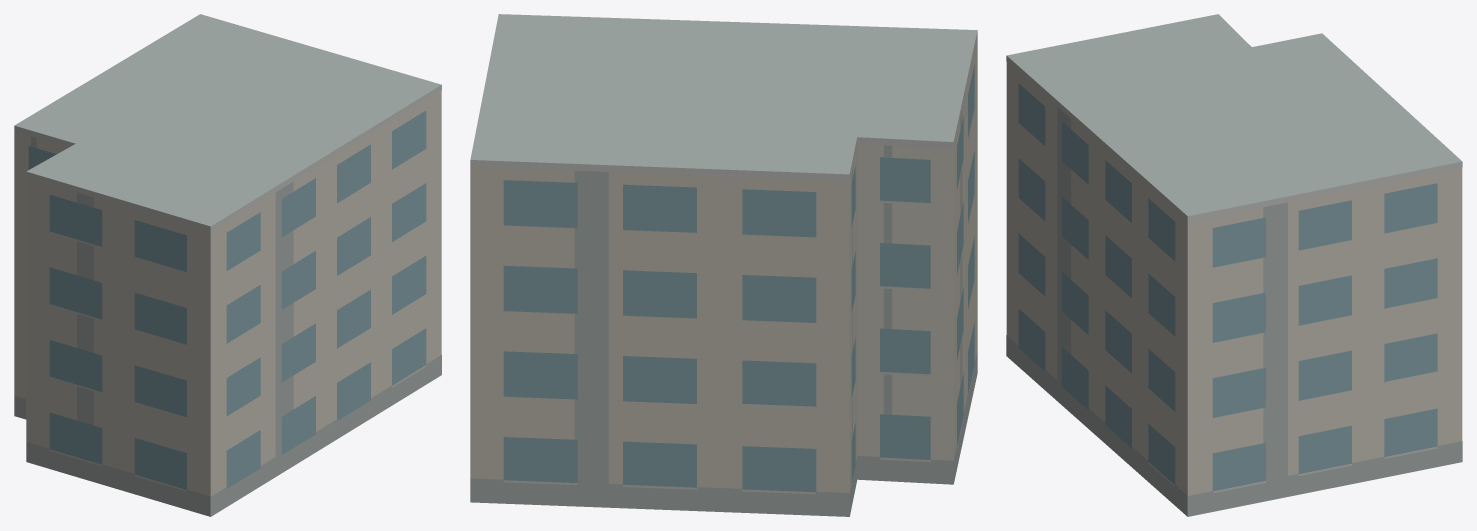
Rendered from survey-upis-32697286.glb.
The picture shows the model from 3 angles, left to right: view 1: azimuth 30°, elevation 25°; view 2: azimuth 150°, elevation 25°; view 3: azimuth 270°, elevation 25°; orthographic projection. The views are drawn at different scales.
Parts seen in each view (by area): view 1: survey-upis-32697286.tmp; view 2: survey-upis-32697286.tmp; view 3: survey-upis-32697286.tmp.
Part boxes in pixels (bbox=[...]): survey-upis-32697286.tmp: bbox=[14, 14, 441, 516]; survey-upis-32697286.tmp: bbox=[470, 14, 977, 516]; survey-upis-32697286.tmp: bbox=[1006, 14, 1462, 516].
Bounding box in the file's own units: 17.62 × 12.2 × 16.78.
